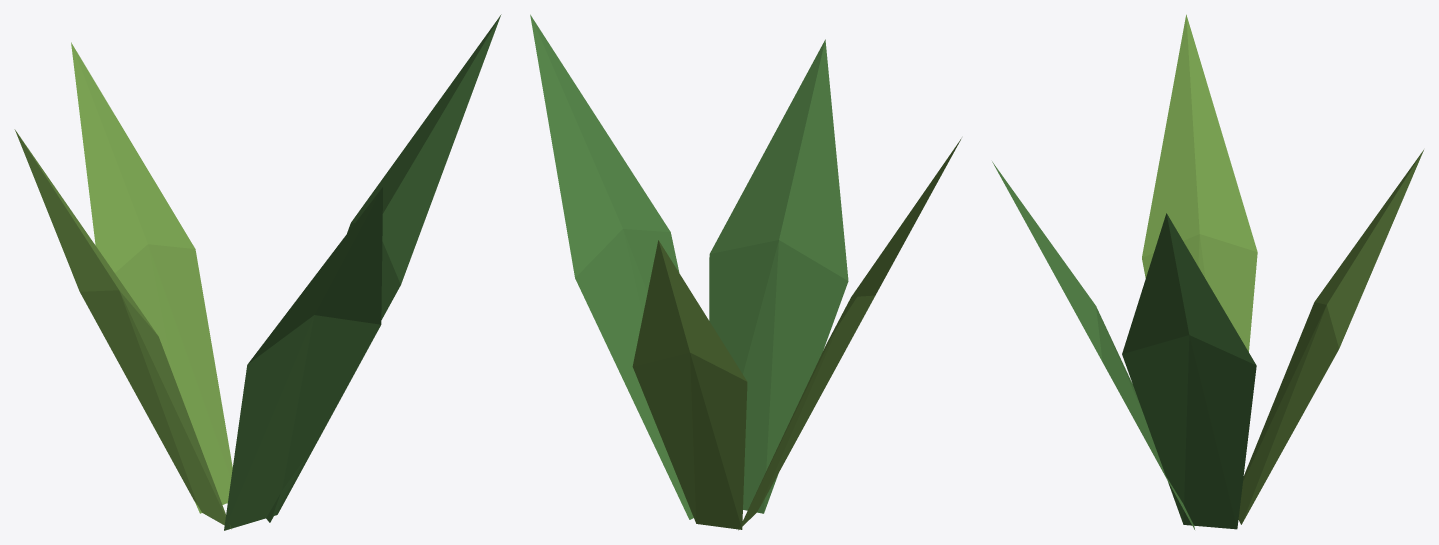
The model's file is grass_clump_small_02.glb.
3 renders of one model, left to right at view 1: azimuth 30°, elevation 25°; view 2: azimuth 150°, elevation 25°; view 3: azimuth 270°, elevation 25°, orthographic. The views are drawn at different scales.
Parts seen in each view (by area): view 1: grass_clump_small_02; view 2: grass_clump_small_02; view 3: grass_clump_small_02.
Part boxes in pixels (x1,y1,x2,y2): grass_clump_small_02: [14, 14, 501, 530]; grass_clump_small_02: [530, 14, 961, 530]; grass_clump_small_02: [992, 14, 1423, 529].
Bounding box in the file's own units: 0.3232 × 0.3 × 0.2891.
